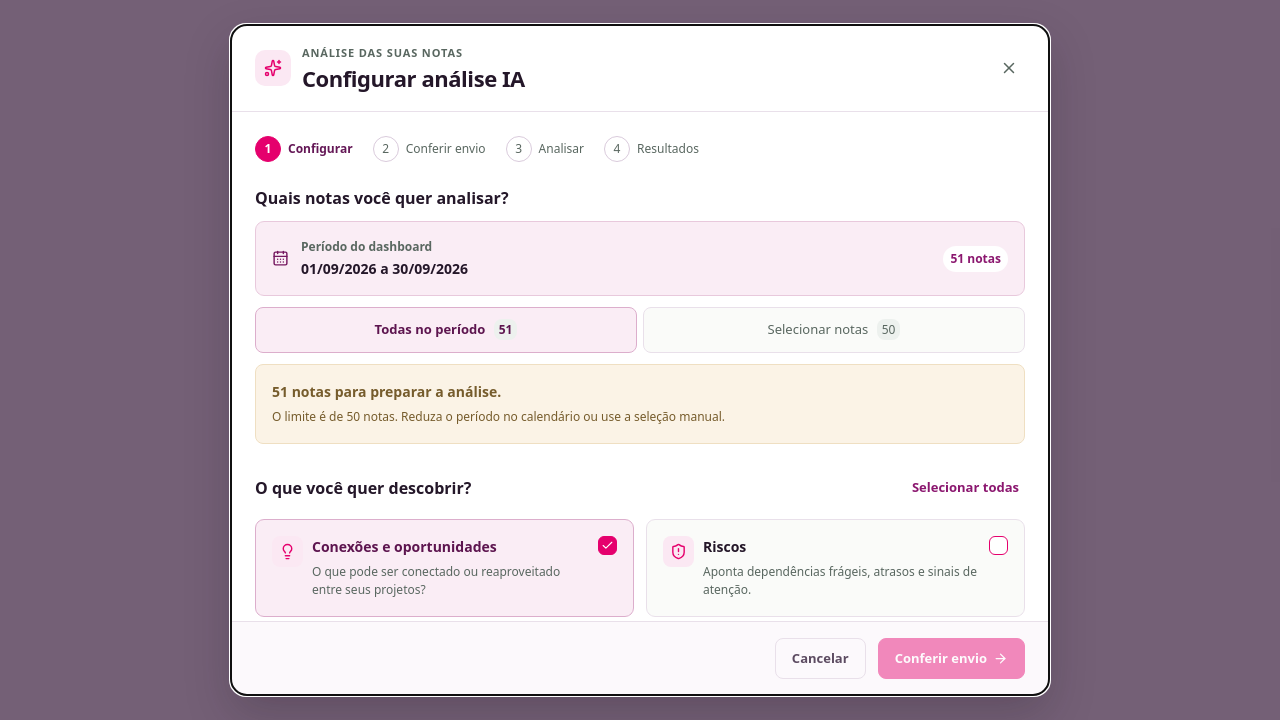
Test: analysis launcher › requires reducing a set over 50 notes and caps manual selection
Expected: the button "Conferir envio" is disabled, [878, 638, 1025, 679]
Step 1. Click the tab "Selecionar notas 50" → [834, 330], box [643, 308, 1025, 353]
(page scrolled)
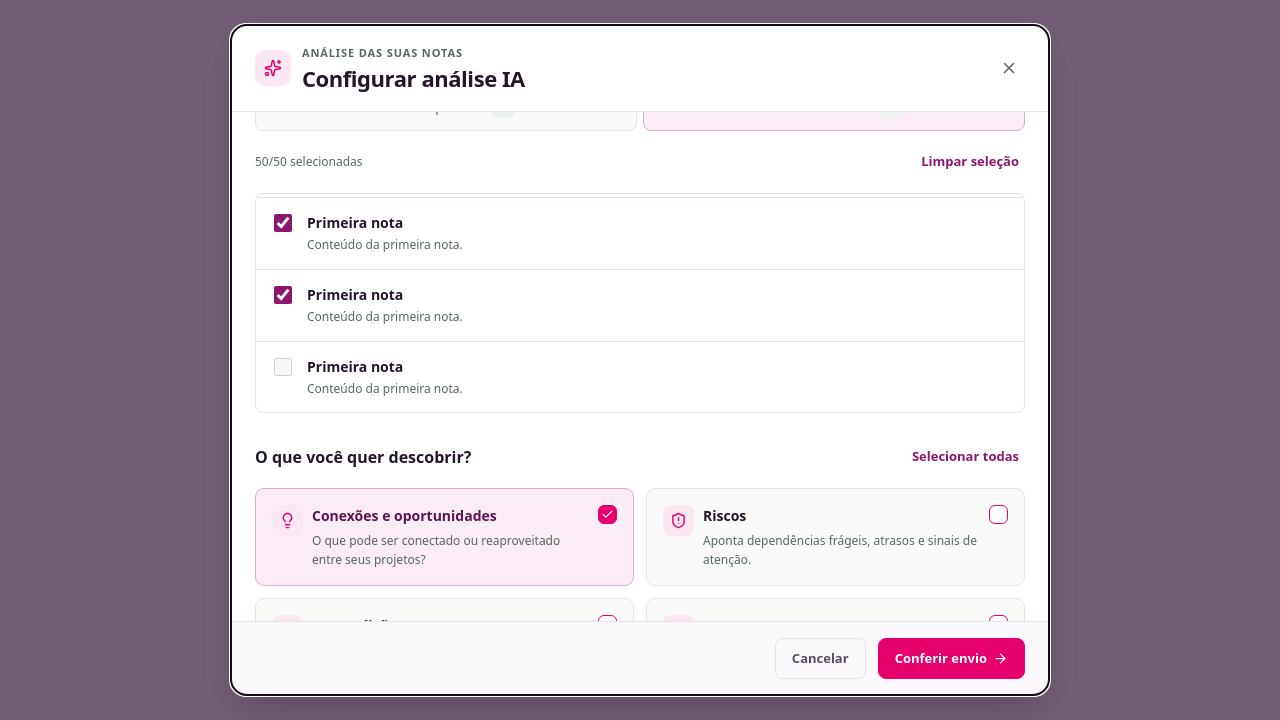
Result: the button "Conferir envio" is enabled at [878, 638, 1025, 679]
Result: the 3rd checkbox labelled "Primeira nota Conteúdo da primeira nota." is disabled at [274, 358, 292, 376]
